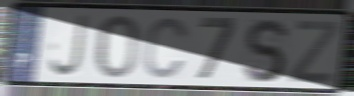7: (195, 15, 240, 83)
C: (142, 15, 191, 81)
J: (46, 13, 89, 80)
O: (95, 13, 140, 80)
S: (241, 16, 289, 84)
Z: (286, 19, 342, 86)
